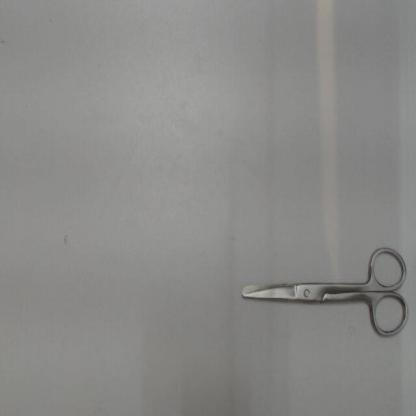Dressing Scissors: (235, 237, 412, 345)
